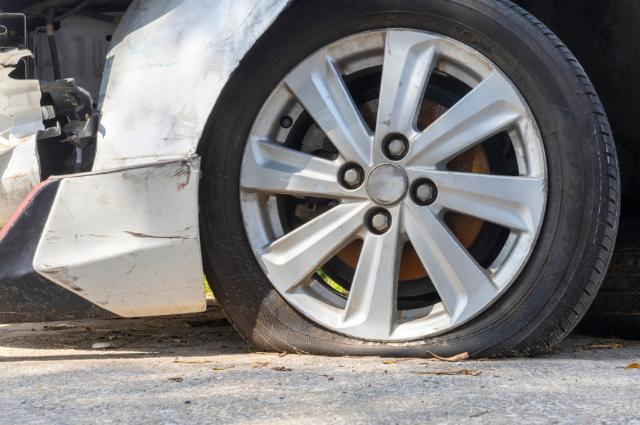Bumper: (0, 5, 216, 301)
